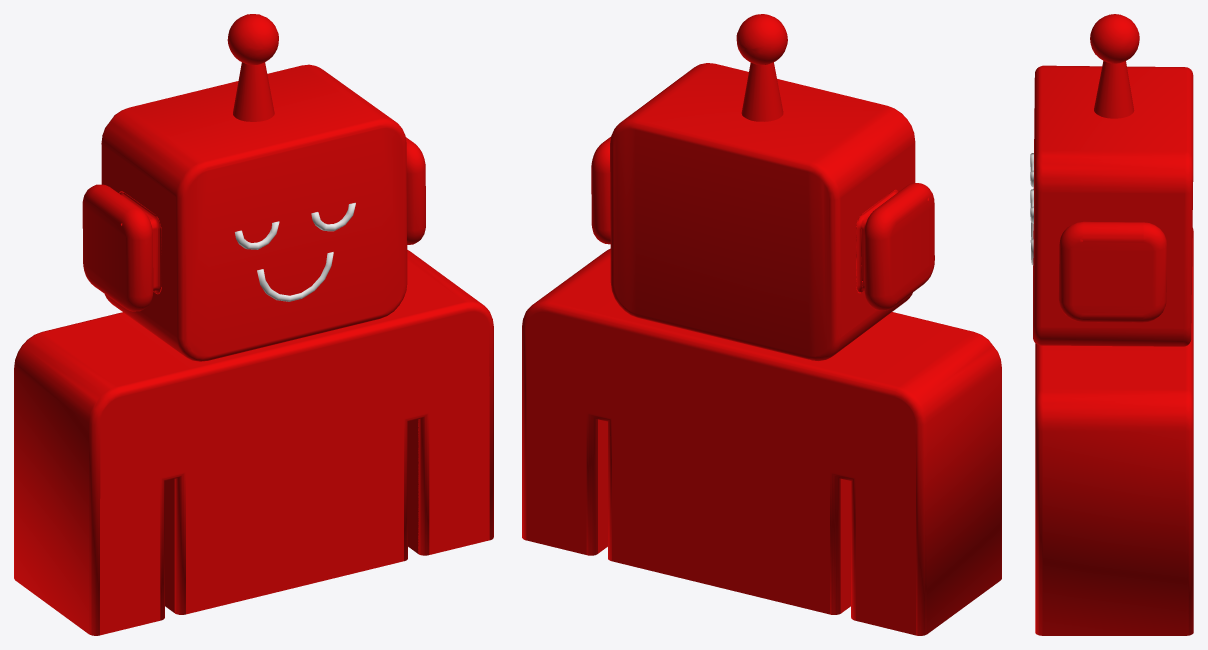
Rendered from lullabot-full.dae.
3 views of the same model, side by side, from view 1: azimuth 30°, elevation 25°; view 2: azimuth 150°, elevation 25°; view 3: azimuth 270°, elevation 25° (orthographic). The views are drawn at different scales.
Parts seen in each view (by area): view 1: body, head, ball, stem, eyes; view 2: body, head, ball, stem; view 3: body, head, ball, stem, eyes.
Part boxes in pixels (bbox=[...]): body: bbox=[14, 250, 493, 635]; head: bbox=[82, 64, 425, 361]; ball: bbox=[227, 14, 278, 64]; stem: bbox=[233, 62, 274, 121]; eyes: bbox=[235, 202, 355, 301]; body: bbox=[522, 248, 1001, 635]; head: bbox=[591, 63, 934, 360]; ball: bbox=[736, 14, 787, 65]; stem: bbox=[741, 62, 783, 121]; body: bbox=[1035, 228, 1193, 635]; head: bbox=[1033, 65, 1193, 346]; ball: bbox=[1090, 14, 1139, 63]; stem: bbox=[1094, 61, 1134, 118]; eyes: bbox=[1030, 153, 1033, 265].
Bounding box in the file's own units: 1.42 × 0.5118 × 1.81.
